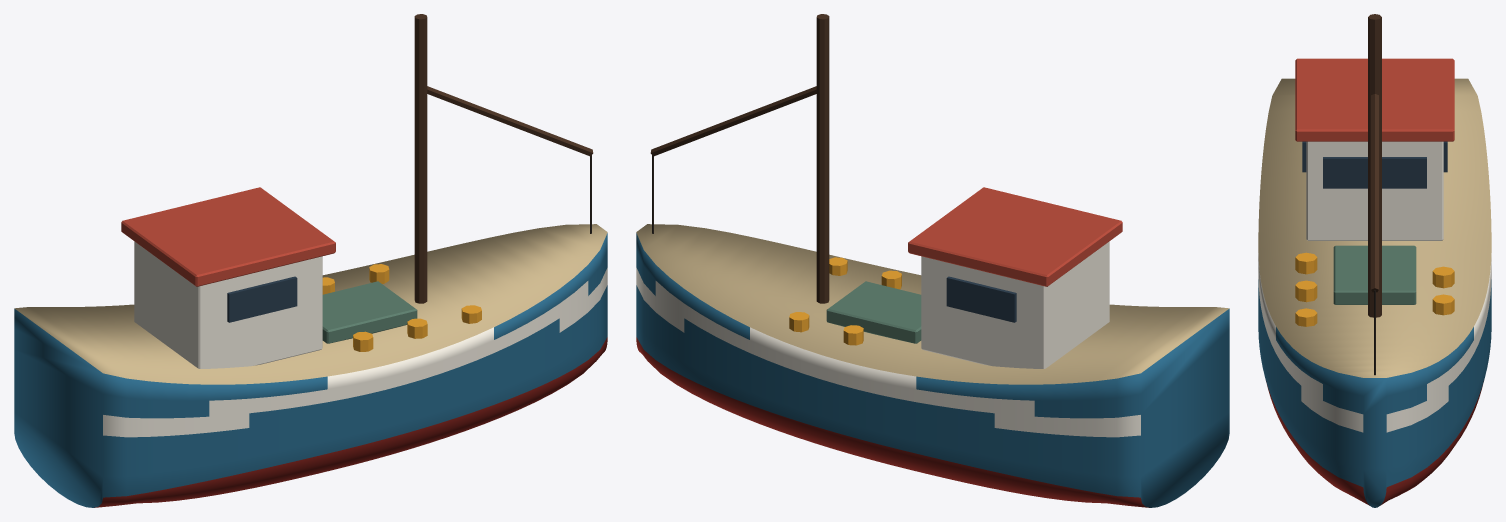
The model's file is boat_fishing.glb.
The picture shows the model from 3 angles, left to right: view 1: azimuth 30°, elevation 25°; view 2: azimuth 150°, elevation 25°; view 3: azimuth 270°, elevation 25°; orthographic projection. The views are drawn at different scales.
Visible parts, largest first — view 1: boat_fishing; view 2: boat_fishing; view 3: boat_fishing.
Part boxes in pixels (x1,y1,x2,y2): boat_fishing: (14,14,607,507); boat_fishing: (636,14,1229,507); boat_fishing: (1258,14,1491,507).
Bounding box in the file's own units: 2.4 × 1.72 × 0.8499.
